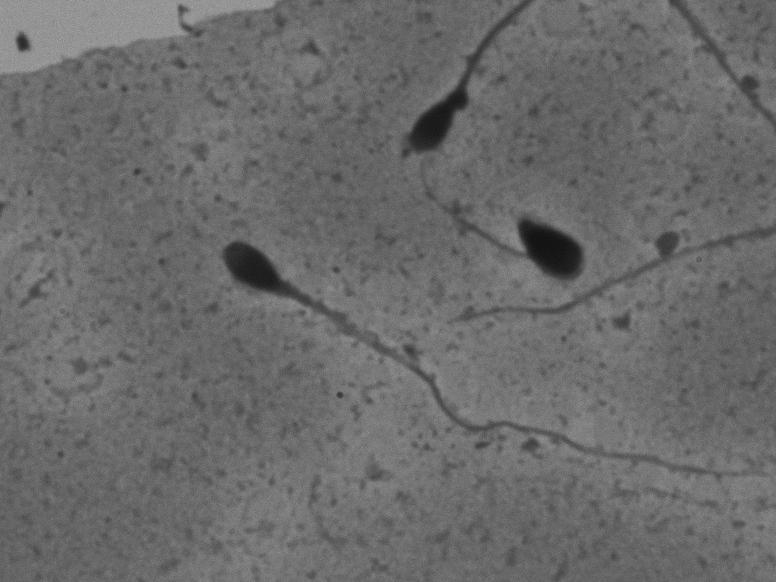Abnormal: (418, 157, 600, 306)
Normal: (211, 223, 756, 488)
